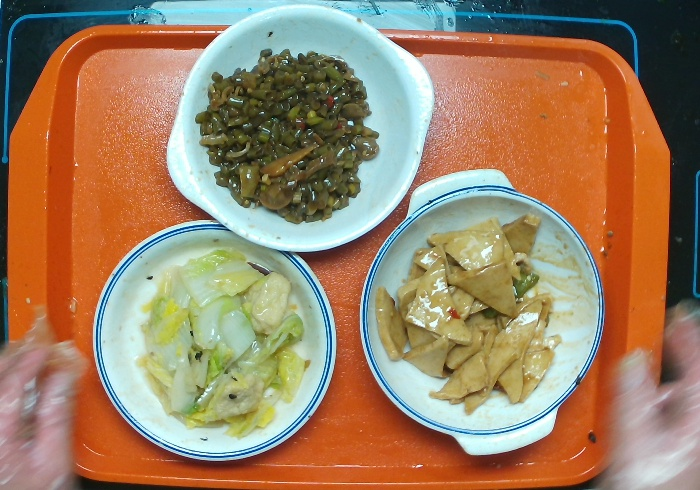HZYJPL-Dai_Er_Bai_Yuan_Wan: (162, 4, 437, 255)
HZYJPL-Lan_Bian_Dai_Er_Wan: (357, 163, 604, 456)
HZYJPL-Lan_Bian_Yuan_Die: (89, 218, 339, 463)
